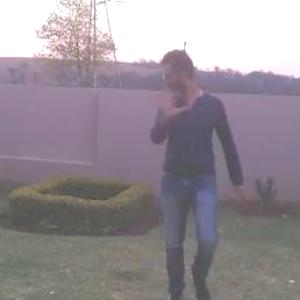follow_hand: (152, 86, 182, 122)
